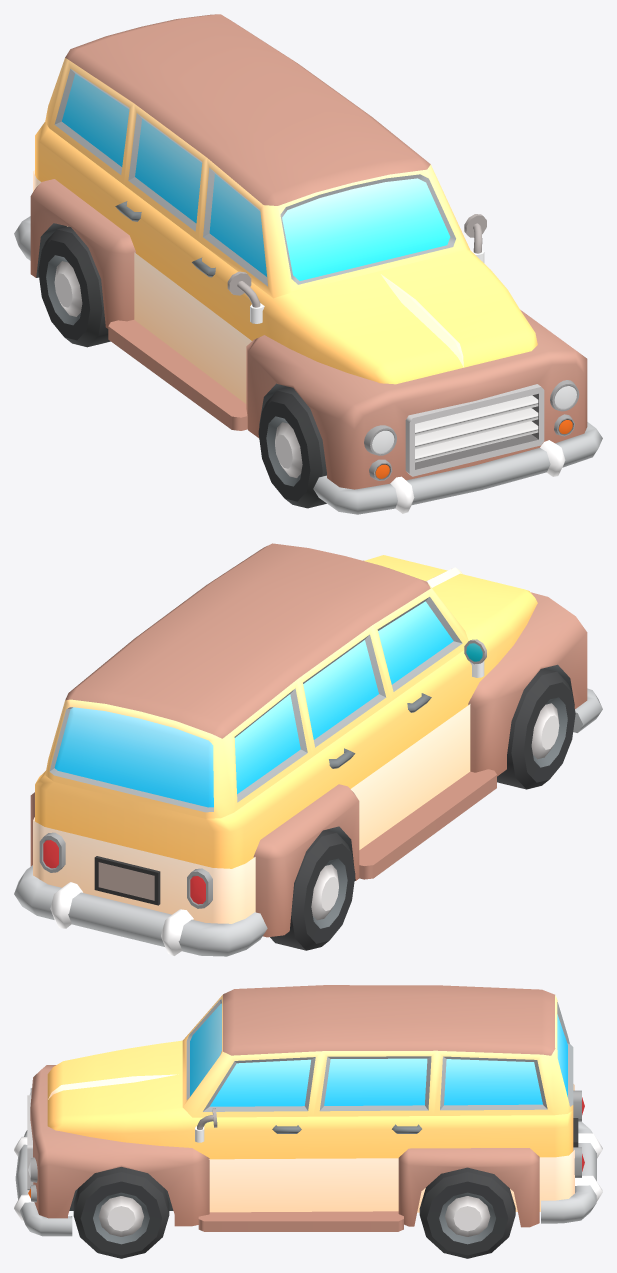
File: Car_10.glb
3 renders of one model, top to bottom at view 1: azimuth 30°, elevation 25°; view 2: azimuth 150°, elevation 25°; view 3: azimuth 270°, elevation 25°, orthographic. The views are drawn at different scales.
Parts seen in each view (by area): view 1: Car_10, Wheel_166, Wheel_165; view 2: Car_10, Wheel_165, Wheel_166; view 3: Car_10, Wheel_167, Wheel_168.
Part boxes in pixels (x1=…): Car_10: x1=14, y1=14, x2=602, y2=514; Wheel_166: x1=38, y1=226, x2=110, y2=347; Wheel_165: x1=258, y1=387, x2=326, y2=508; Car_10: x1=14, y1=543, x2=602, y2=956; Wheel_165: x1=497, y1=668, x2=575, y2=789; Wheel_166: x1=270, y1=830, x2=355, y2=950; Car_10: x1=14, y1=985, x2=602, y2=1236; Wheel_167: x1=73, y1=1167, x2=169, y2=1258; Wheel_168: x1=419, y1=1167, x2=515, y2=1258.
Size of the model in its own units: 2.17 by 1.97 by 5.21.
2 materials, 2 textured.
